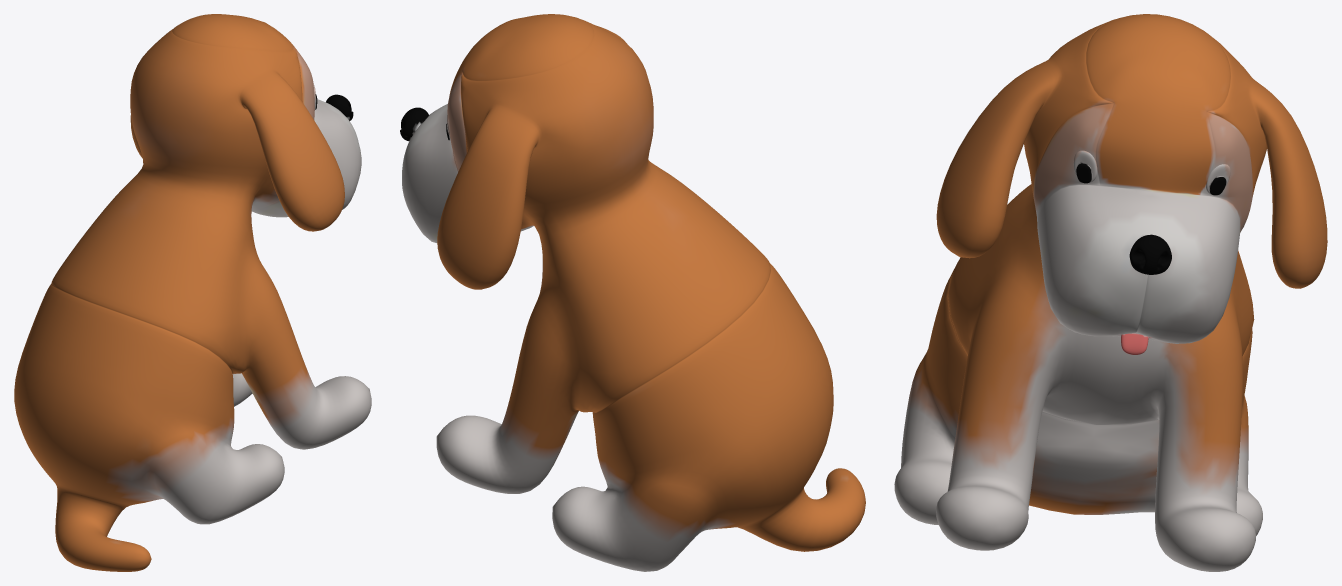
File: pubbles.fbx
The picture shows the model from 3 angles, left to right: view 1: azimuth 30°, elevation 25°; view 2: azimuth 150°, elevation 25°; view 3: azimuth 270°, elevation 25°; orthographic projection. The views are drawn at different scales.
Visible parts, largest first — view 1: pubbles; view 2: pubbles; view 3: pubbles.
Boxes of the visible parts, box(x1,y1,x2,y2) form: pubbles: box(14, 14, 371, 571); pubbles: box(400, 14, 865, 571); pubbles: box(894, 14, 1327, 571).
Size of the model in its own units: 254 by 323 by 213.
